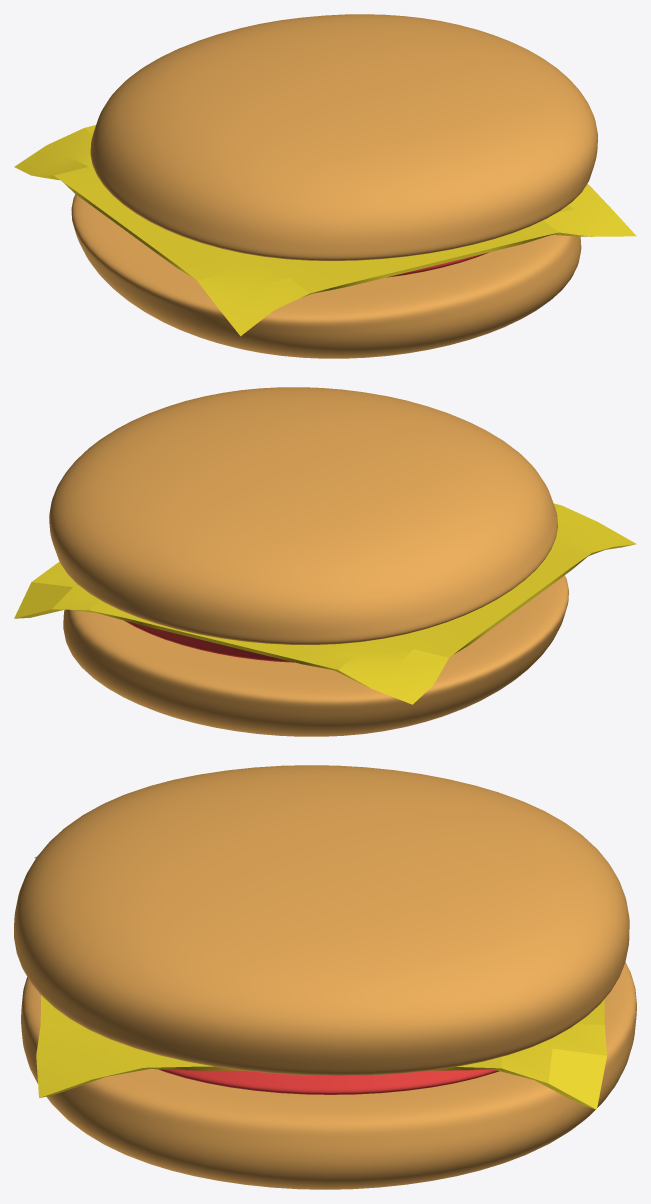
Rendered from hamberger.glb.
3 views of the same model, one above another, from view 1: azimuth 30°, elevation 25°; view 2: azimuth 150°, elevation 25°; view 3: azimuth 270°, elevation 25° (orthographic). The views are drawn at different scales.
Parts seen in each view (by area): view 1: Cube.002, Cube, Plane; view 2: Cube.002, Cube, Plane, Cube.001; view 3: Cube.002, Cube, Plane, Cube.001.
Boxes of the visible parts, x1,y1,x2,y2 form: Cube.002: (90,14,597,260); Cube: (71,194,581,358); Plane: (14,125,636,336); Cube.002: (49,387,557,644); Cube: (63,575,568,736); Plane: (14,503,636,704); Cube.001: (124,620,294,662); Cube.002: (14,765,629,1075); Cube: (21,962,636,1189); Plane: (34,856,606,1109); Cube.001: (158,1069,498,1094).
Bounding box in the file's own units: 9.61 × 4.35 × 9.28.
